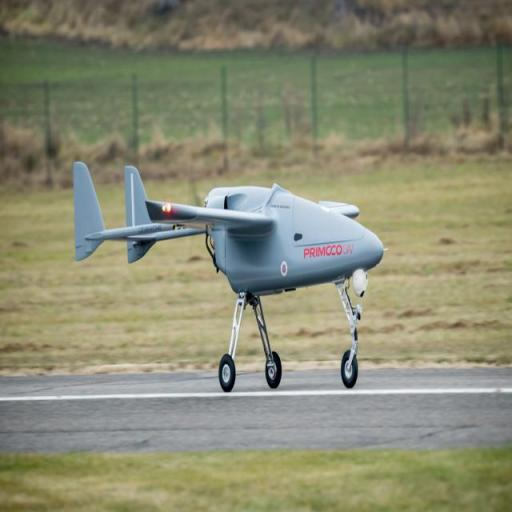uav: (57, 146, 401, 410)
